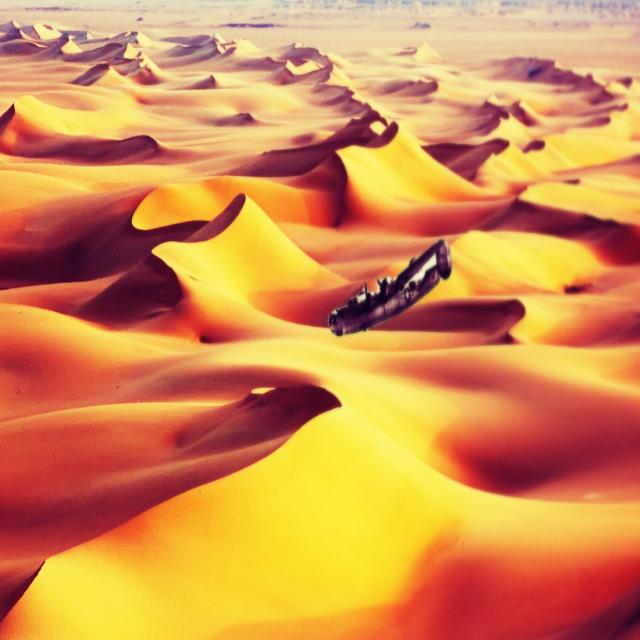airplane: (327, 236, 454, 338)
